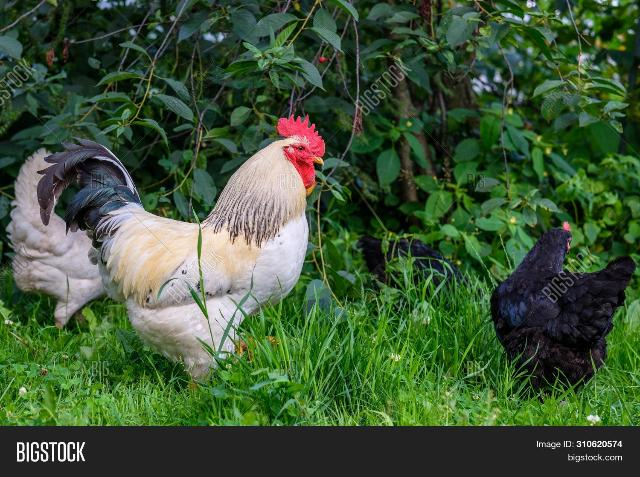Chicken: (37, 114, 326, 384), (491, 221, 636, 392), (7, 151, 107, 327)
